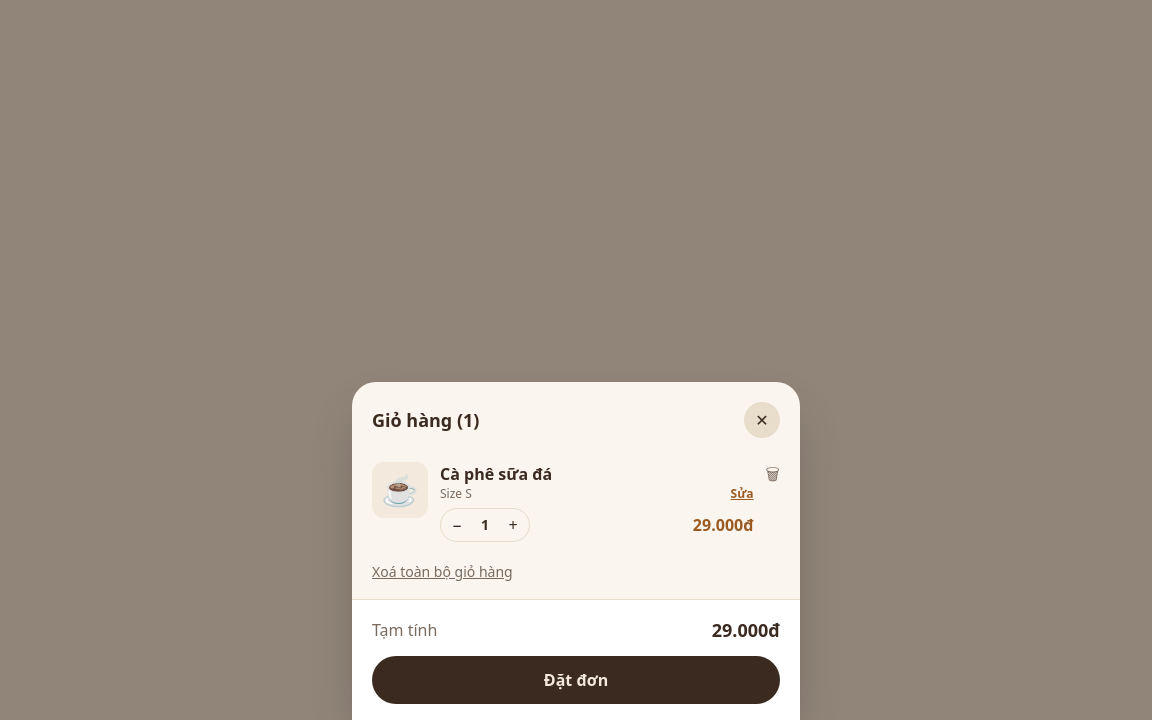
CartSheet - sửa size/topping › huỷ thì giữ nguyên dòng cũ
This screenshot has width=1152, height=720.
Expected: the text "Cà phê sữa đá" is shown, [440,463,552,485]
Click the button with aria-label "Sửa Cà phê sữa đá" at (742, 494), box [731,486,754,502]
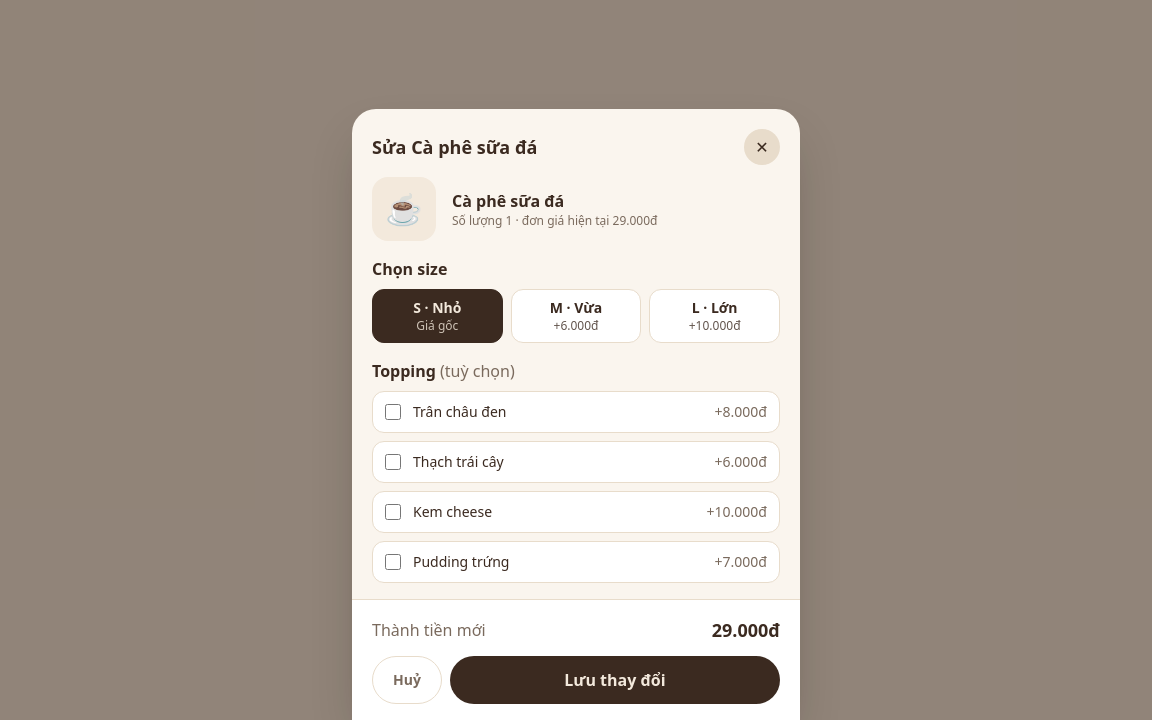
Click the radio button labelled "L · Lớn +10.000đ" at (715, 316), box [649,289,780,343]
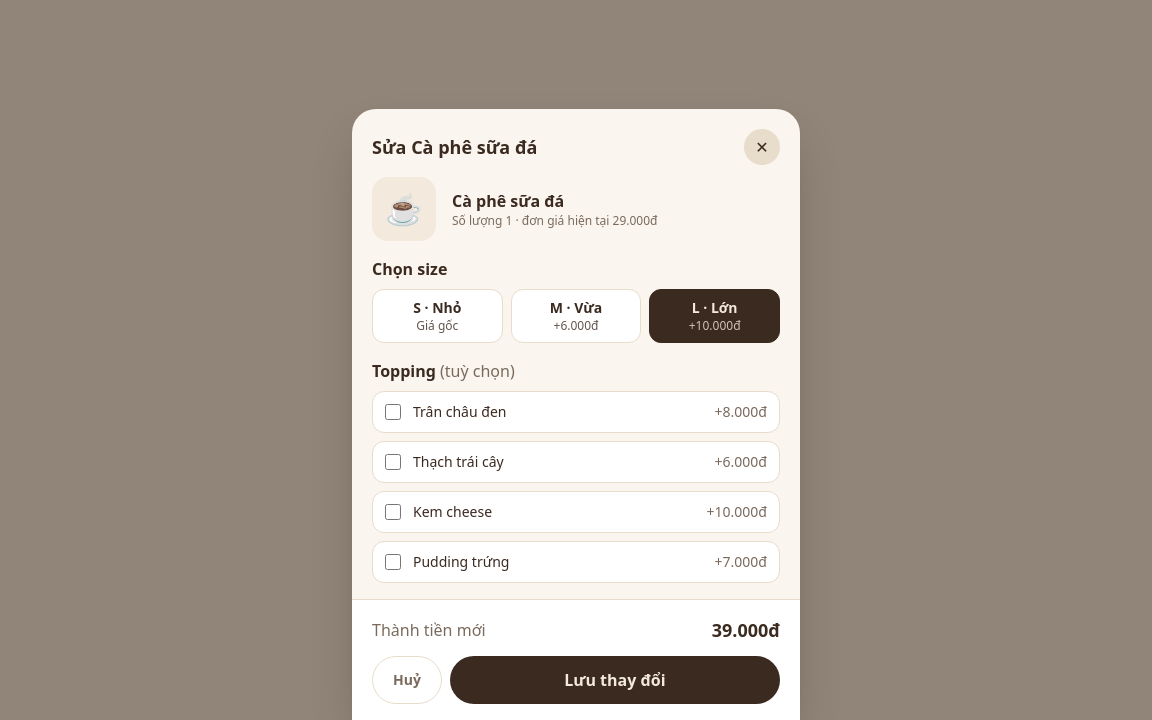
Click the button "Huỷ" at (407, 680), box [372,656,442,704]
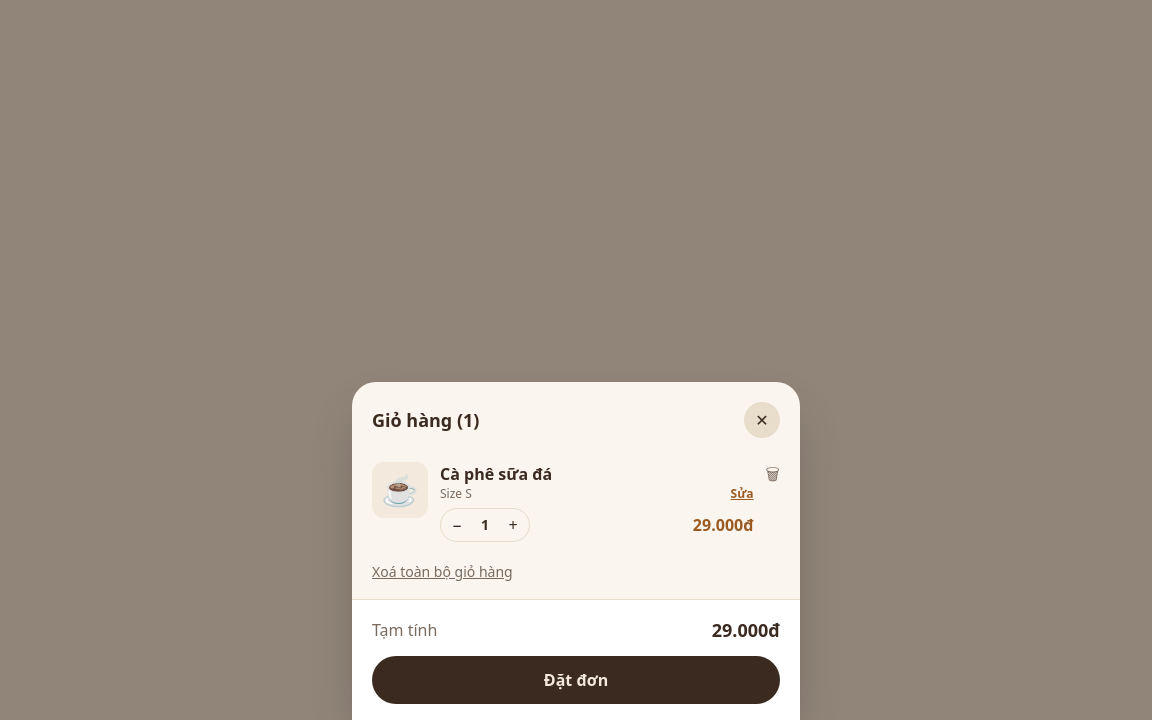
Expected: the text "Size S" is shown, [440,486,472,502]
Expected: the heading "Sửa Cà phê sữa đá" is gone
